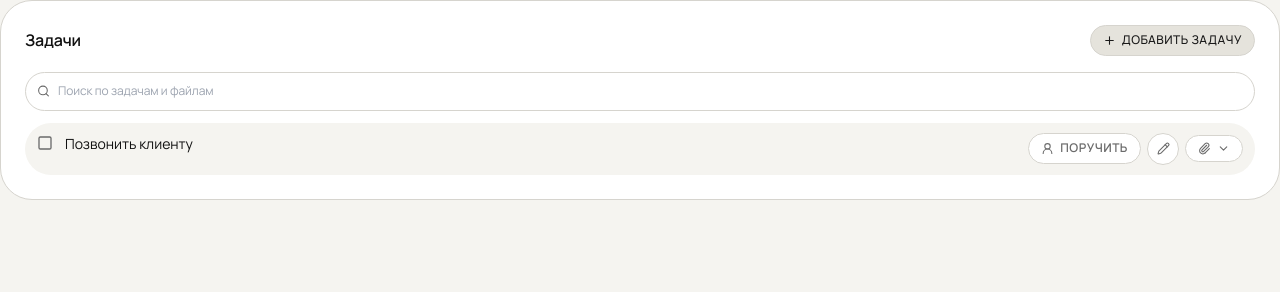
Scenario: TasksTab — a refused action › keeps the delegate selector open and says why
The image size is (1280, 292).
Expected: the text "Позвонить клиенту" is shown, [65,134,193,153]
Click the button "Поручить": (1085, 149) [1028,133,1141,164]
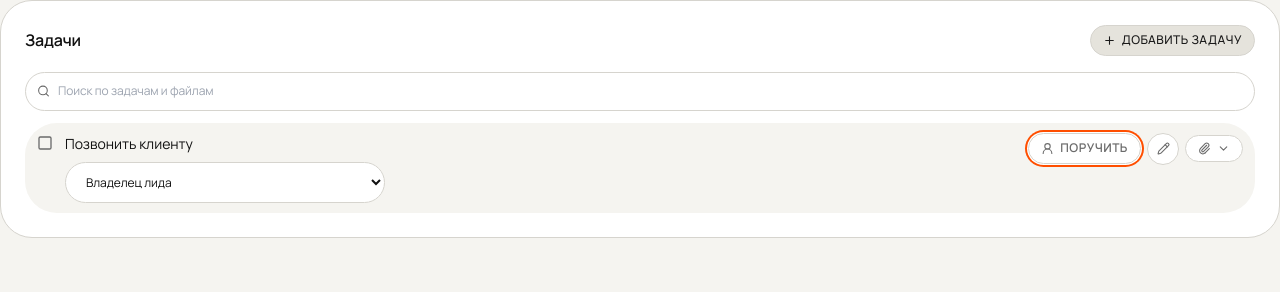
Select "Кирилл · Менеджер" in the dropdown named "Кому поручить задачу": (225, 182) [65,162,385,203]
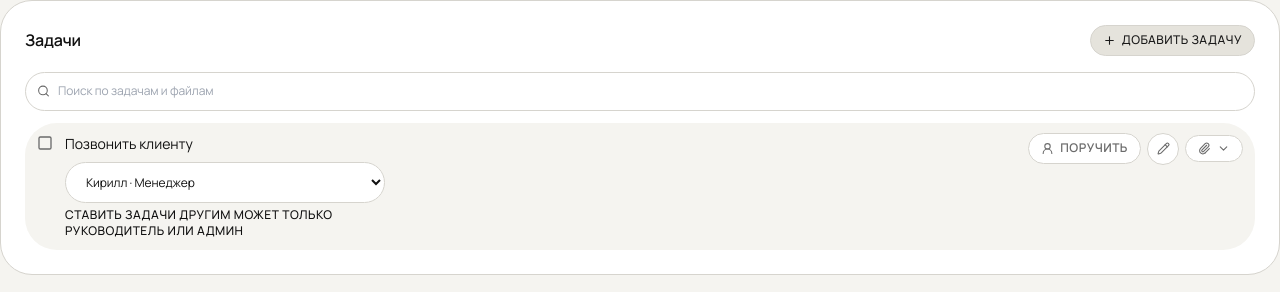
Expected: the message reads "Ставить задачи другим может только руководитель или админ", [65,206,333,239]
